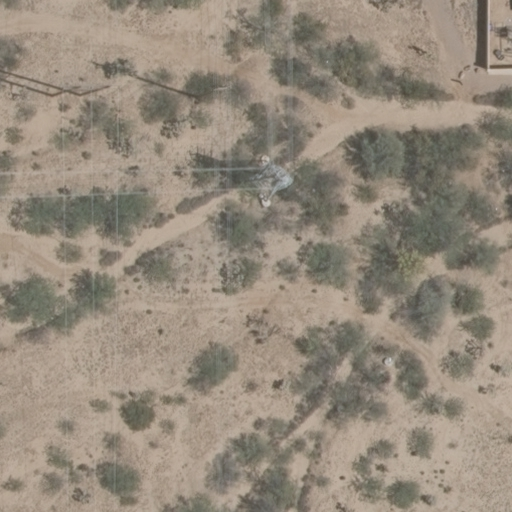TT: (53, 82, 109, 95)
